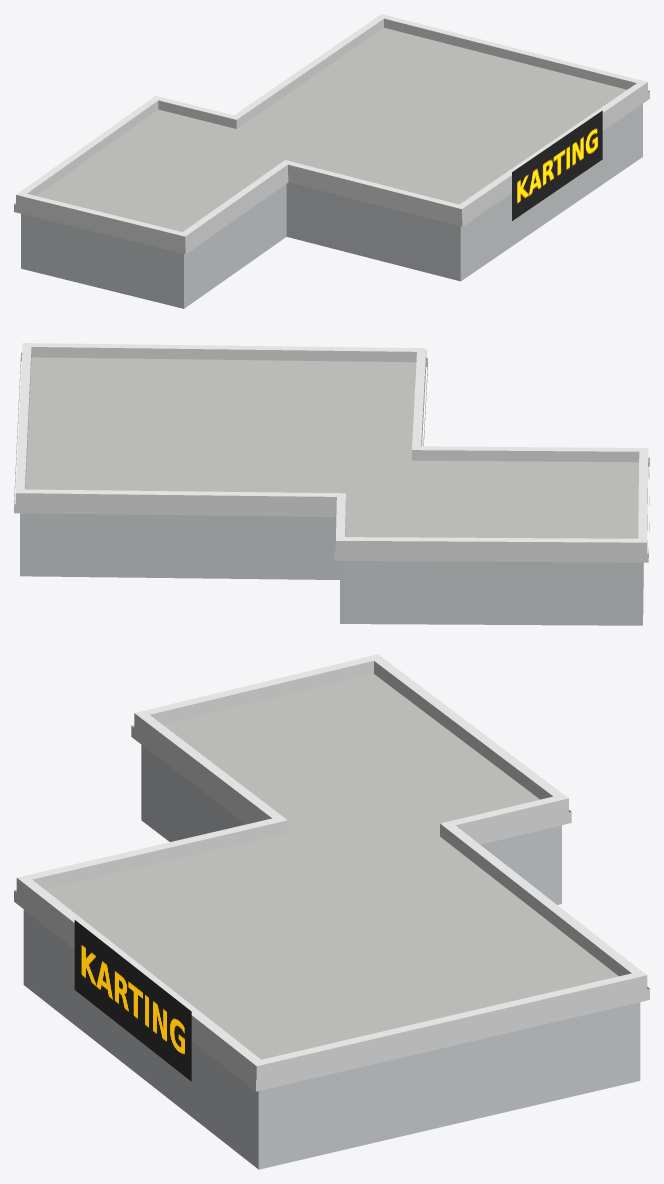
The model's file is bushirikarting.glb.
3 views of the same model, one above another, from view 1: azimuth 30°, elevation 25°; view 2: azimuth 150°, elevation 25°; view 3: azimuth 270°, elevation 25° (orthographic). The views are drawn at different scales.
Visible parts, largest first — view 1: bushirikarting_lod0; view 2: bushirikarting_lod0; view 3: bushirikarting_lod0.
Part boxes in pixels (x1,y1,x2,y2): bushirikarting_lod0: [14, 14, 649, 308]; bushirikarting_lod0: [14, 343, 649, 625]; bushirikarting_lod0: [14, 654, 649, 1169].
Size of what is drawn, in the model's own units: 47.56 by 6.08 by 30.85.
4 materials, 2 textured.
